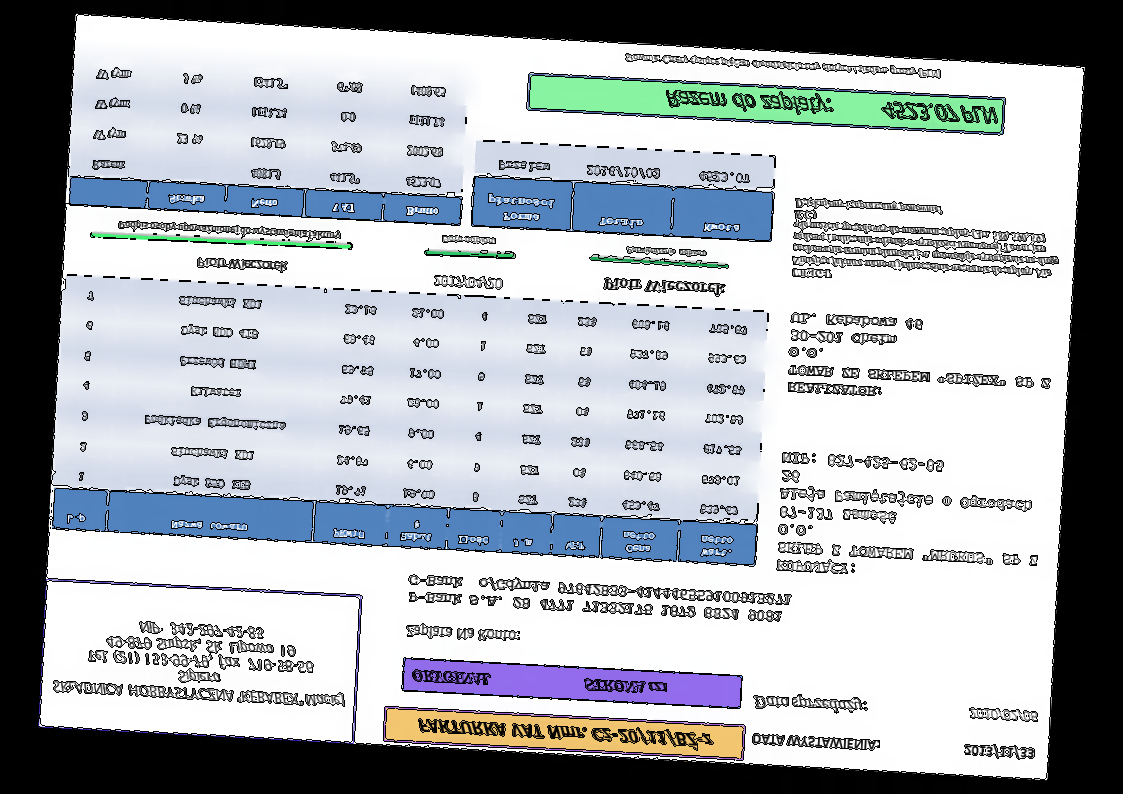Table: (49, 273, 770, 569), (66, 52, 470, 228), (469, 139, 777, 245)
TextBox: (773, 446, 1048, 589), (49, 612, 352, 712), (787, 193, 1067, 295), (785, 308, 1057, 409), (405, 569, 796, 626), (661, 87, 1001, 129), (414, 713, 719, 754), (621, 50, 943, 82), (409, 667, 670, 700), (115, 216, 343, 244), (751, 690, 873, 720), (750, 730, 882, 754), (403, 621, 525, 646), (601, 276, 727, 298), (192, 254, 292, 276), (431, 270, 504, 293), (960, 741, 1039, 762), (964, 705, 1041, 725), (624, 244, 708, 260), (438, 232, 497, 249)
